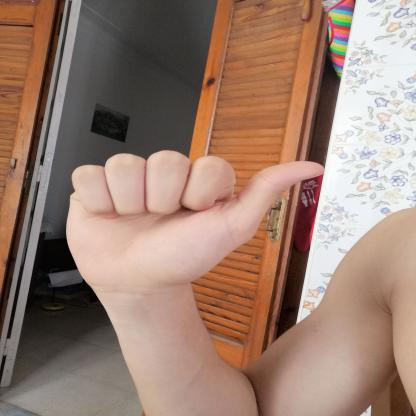DAD: (50, 143, 338, 306)
